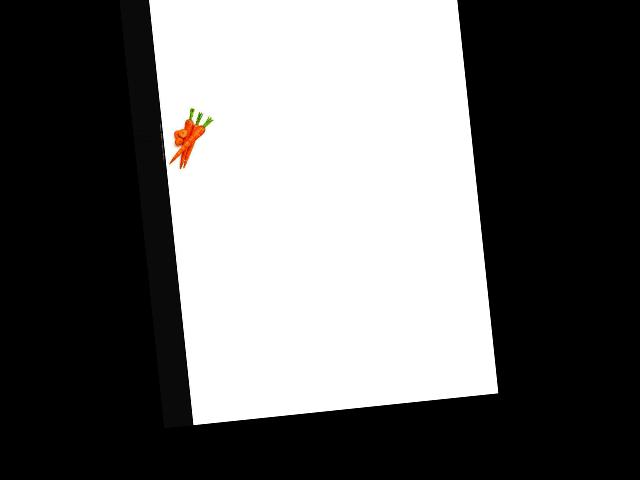carrot: (176, 114, 204, 170)
